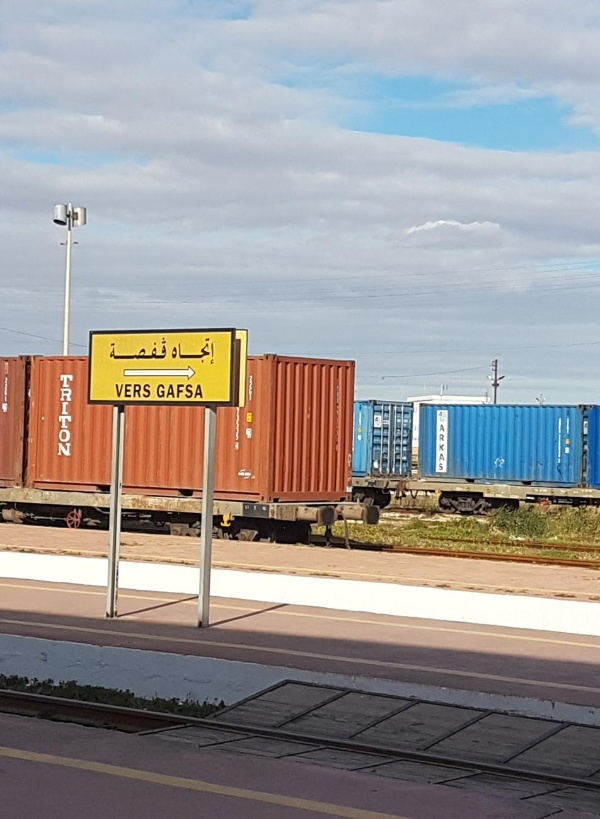text: (65, 373, 74, 459), (58, 373, 64, 459), (439, 423, 448, 472), (177, 338, 192, 366), (193, 338, 208, 366), (113, 337, 128, 360), (129, 337, 144, 360), (145, 337, 160, 360), (4, 377, 16, 404), (161, 383, 176, 399), (177, 383, 192, 399), (129, 384, 144, 398), (249, 373, 256, 402), (115, 384, 128, 398), (193, 383, 204, 399), (209, 338, 215, 366), (161, 337, 168, 360), (236, 406, 240, 442), (171, 338, 176, 366), (145, 384, 152, 398), (439, 412, 448, 418), (375, 417, 384, 423), (157, 383, 160, 399), (236, 442, 240, 451), (111, 337, 112, 360)
